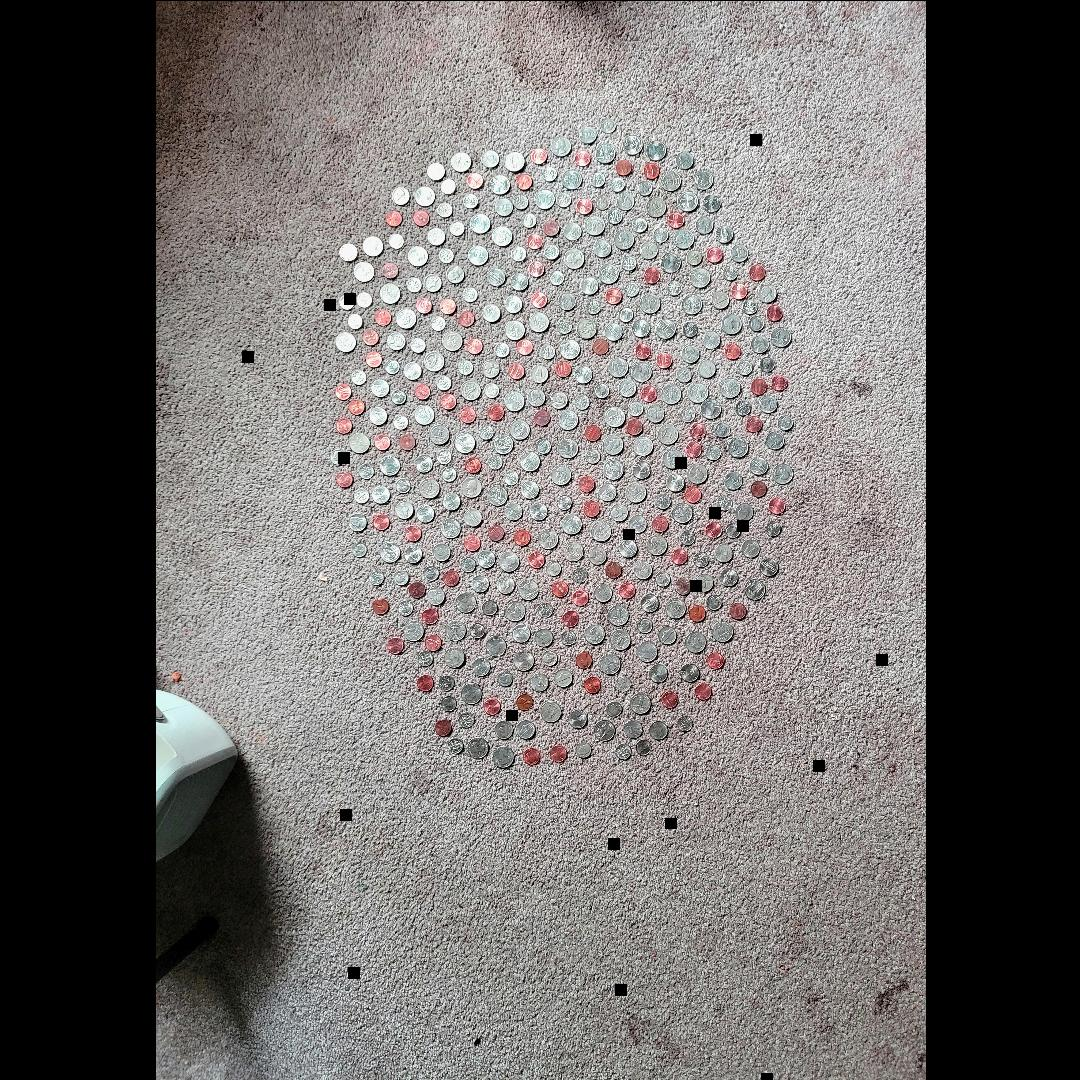Dime: (584, 448, 600, 464), (634, 738, 650, 754), (417, 650, 432, 666), (458, 557, 473, 572), (540, 166, 556, 180), (736, 360, 752, 374), (764, 521, 780, 535), (692, 552, 708, 566), (626, 400, 642, 414), (486, 453, 500, 469), (458, 711, 472, 727), (482, 598, 496, 614), (540, 650, 556, 664), (616, 742, 630, 758), (388, 232, 402, 248), (441, 694, 455, 710), (588, 172, 603, 186), (430, 315, 444, 330), (410, 337, 424, 352), (457, 360, 472, 374), (573, 394, 588, 408), (462, 286, 476, 301), (623, 282, 638, 296), (742, 298, 756, 313), (735, 400, 749, 415), (676, 366, 690, 381), (618, 307, 632, 322), (556, 494, 570, 509), (572, 566, 586, 581), (358, 462, 372, 477), (396, 600, 411, 614), (438, 675, 452, 690), (406, 276, 420, 291), (347, 312, 361, 327), (600, 118, 614, 132), (609, 176, 623, 190), (595, 194, 609, 208), (632, 217, 646, 231), (636, 180, 650, 194), (555, 192, 569, 206), (543, 244, 557, 258), (513, 194, 527, 208), (521, 213, 535, 227), (510, 246, 524, 260), (462, 193, 476, 207), (436, 202, 450, 216), (437, 248, 451, 262), (383, 358, 397, 372), (351, 369, 365, 383), (390, 389, 404, 403), (392, 414, 406, 428), (436, 375, 450, 389), (483, 382, 497, 396), (478, 424, 492, 438), (593, 383, 607, 397), (540, 344, 554, 358), (494, 342, 508, 356), (556, 318, 570, 332), (585, 299, 599, 313), (621, 256, 635, 270), (666, 280, 680, 294), (686, 250, 700, 264), (722, 266, 736, 280), (749, 316, 763, 330), (682, 322, 696, 336), (759, 356, 773, 370), (679, 407, 693, 421), (777, 415, 791, 429), (714, 422, 728, 436), (705, 445, 719, 459), (716, 495, 730, 509), (724, 522, 738, 536), (679, 530, 693, 544), (655, 493, 669, 507), (655, 571, 669, 585), (536, 438, 550, 452), (546, 560, 560, 574), (503, 470, 517, 484), (436, 449, 450, 463), (423, 566, 437, 580), (392, 570, 406, 584), (368, 570, 382, 584), (351, 541, 365, 555), (353, 488, 367, 502), (497, 670, 511, 684), (468, 623, 482, 637), (537, 602, 551, 616), (560, 630, 574, 644), (606, 701, 620, 715), (636, 618, 650, 632), (616, 676, 630, 690), (706, 594, 720, 608), (676, 716, 690, 730), (447, 738, 461, 752), (575, 742, 589, 756), (339, 294, 353, 308), (356, 292, 370, 306), (441, 179, 455, 193), (548, 270, 562, 284), (330, 449, 344, 463), (395, 478, 409, 492), (448, 222, 464, 234), (441, 466, 454, 480), (608, 208, 620, 222), (653, 228, 667, 240)
Nickel: (470, 656, 490, 676), (567, 708, 585, 728), (657, 624, 675, 644), (602, 322, 622, 340), (714, 224, 732, 244), (700, 330, 720, 348), (644, 404, 664, 422), (618, 538, 636, 557), (740, 538, 758, 557), (594, 582, 611, 602), (468, 573, 488, 590), (493, 720, 511, 738), (623, 719, 641, 737), (649, 720, 667, 738), (648, 663, 666, 681), (534, 628, 552, 646), (510, 623, 528, 641), (639, 593, 657, 611), (394, 500, 412, 518), (759, 556, 777, 574), (734, 502, 752, 520), (588, 546, 606, 564), (680, 344, 698, 362), (548, 390, 566, 408), (402, 361, 420, 379), (592, 238, 610, 256), (757, 284, 775, 302), (749, 334, 767, 352), (577, 124, 595, 142), (348, 512, 366, 530), (338, 242, 356, 260), (526, 388, 544, 406), (631, 317, 648, 336), (476, 548, 492, 568), (722, 472, 742, 488), (764, 432, 784, 448), (628, 514, 645, 532), (666, 473, 683, 491), (718, 567, 736, 584), (598, 482, 616, 499), (609, 502, 626, 520), (617, 378, 634, 396), (369, 406, 386, 424), (579, 276, 596, 294), (562, 222, 580, 239), (639, 240, 656, 258), (674, 151, 692, 168), (680, 664, 698, 681), (391, 186, 408, 204), (402, 544, 419, 562), (713, 543, 731, 560), (694, 573, 712, 590), (631, 460, 649, 477), (749, 457, 766, 474), (557, 293, 574, 310), (516, 719, 532, 737), (554, 668, 570, 686), (530, 672, 546, 690), (432, 542, 448, 560), (462, 508, 480, 524), (414, 454, 432, 470), (370, 486, 388, 502), (520, 480, 536, 498), (504, 501, 520, 519), (758, 396, 776, 412), (696, 360, 714, 376), (530, 364, 546, 382), (370, 378, 386, 396), (422, 274, 440, 290), (445, 266, 463, 282), (729, 244, 747, 260), (694, 216, 712, 232), (710, 291, 728, 307), (615, 192, 633, 208), (480, 150, 498, 166), (426, 586, 442, 604), (572, 366, 590, 382), (510, 272, 526, 290), (426, 228, 444, 244), (386, 332, 404, 348), (480, 360, 498, 376), (442, 491, 458, 509), (416, 504, 432, 522), (634, 560, 650, 578), (486, 268, 503, 284), (702, 194, 719, 210), (496, 576, 512, 592), (530, 502, 546, 518), (505, 296, 521, 312), (494, 198, 510, 214), (426, 162, 442, 178), (482, 304, 498, 320)
Penny: (666, 211, 684, 229), (384, 209, 400, 227), (706, 652, 722, 669), (592, 336, 608, 353), (522, 748, 538, 764), (583, 677, 599, 693), (618, 582, 634, 598), (604, 561, 620, 577), (670, 548, 686, 564), (582, 500, 598, 516), (684, 486, 700, 502), (750, 480, 766, 496), (626, 419, 642, 435), (640, 385, 656, 401), (335, 383, 351, 399), (365, 351, 381, 367), (374, 309, 390, 325), (439, 297, 455, 313), (515, 337, 531, 353), (527, 260, 543, 276), (526, 232, 542, 248), (605, 287, 621, 303), (731, 283, 747, 299), (705, 246, 721, 262), (576, 197, 592, 213), (541, 218, 557, 234), (574, 150, 590, 166), (530, 148, 546, 164), (465, 172, 481, 188), (412, 208, 428, 224), (694, 682, 711, 697), (465, 457, 480, 474), (425, 634, 440, 650), (561, 610, 577, 625), (443, 569, 458, 585), (373, 514, 388, 530), (404, 525, 419, 541), (769, 497, 784, 513), (689, 422, 705, 437), (770, 374, 786, 389), (579, 476, 594, 492), (399, 434, 414, 450), (374, 433, 389, 449), (361, 329, 377, 344), (457, 311, 473, 326), (634, 342, 650, 357), (723, 342, 739, 357), (766, 304, 782, 319), (616, 158, 630, 175), (417, 675, 432, 690), (675, 579, 690, 594), (386, 638, 402, 652), (550, 745, 564, 761), (484, 698, 498, 714), (515, 694, 531, 708), (662, 691, 676, 707), (576, 651, 590, 667), (552, 580, 566, 596), (407, 582, 423, 596), (488, 524, 502, 540), (652, 515, 666, 531), (684, 442, 700, 456), (585, 424, 599, 440), (750, 378, 766, 392), (336, 470, 350, 486), (336, 417, 350, 433), (348, 399, 362, 415), (458, 408, 474, 422), (488, 403, 502, 419), (555, 361, 569, 377), (530, 292, 546, 306), (644, 266, 658, 282), (644, 162, 658, 178), (435, 720, 450, 734), (730, 602, 744, 617), (464, 535, 478, 550), (416, 297, 430, 312), (466, 338, 480, 353), (656, 352, 670, 367), (750, 264, 764, 279), (372, 598, 386, 612), (422, 608, 436, 622), (690, 606, 704, 620), (572, 590, 586, 604), (514, 530, 528, 544), (528, 552, 542, 566), (706, 522, 720, 536), (746, 416, 760, 430), (414, 384, 428, 398), (441, 394, 455, 408), (534, 410, 548, 424), (509, 364, 523, 378), (382, 262, 396, 276), (516, 174, 530, 188)
Quarter: (459, 683, 480, 704), (459, 476, 480, 497), (352, 262, 374, 282), (466, 736, 486, 758), (628, 693, 650, 713), (608, 628, 628, 650), (496, 551, 518, 571), (656, 423, 678, 443), (394, 308, 416, 328), (593, 719, 613, 740), (635, 640, 655, 661), (484, 635, 505, 655), (684, 631, 704, 652), (454, 592, 475, 612), (348, 432, 368, 453), (602, 406, 623, 426), (625, 481, 645, 502), (770, 463, 791, 483), (689, 267, 710, 287), (596, 264, 617, 284), (726, 437, 746, 457), (519, 450, 539, 470), (335, 331, 355, 351), (492, 746, 512, 766), (540, 701, 560, 721), (599, 653, 619, 673), (513, 649, 533, 669), (711, 620, 731, 640), (664, 597, 684, 617), (583, 623, 603, 643), (517, 579, 537, 599), (504, 600, 524, 620), (444, 620, 464, 640), (402, 620, 422, 640), (744, 578, 764, 598), (379, 455, 399, 475), (418, 478, 438, 498), (378, 542, 398, 562), (487, 485, 507, 505), (428, 424, 448, 444), (453, 432, 473, 452), (492, 433, 512, 453), (508, 418, 528, 438), (503, 390, 523, 410), (459, 380, 479, 400), (557, 409, 577, 429), (556, 437, 576, 457), (549, 464, 569, 484), (590, 520, 610, 540), (632, 436, 652, 456), (646, 534, 666, 554), (671, 503, 691, 523), (687, 462, 707, 482), (687, 382, 707, 402), (700, 398, 720, 418), (559, 338, 579, 358), (770, 326, 790, 346), (660, 252, 680, 272), (676, 190, 696, 210), (692, 169, 712, 189), (659, 170, 679, 190), (528, 312, 548, 332), (503, 320, 523, 340), (584, 215, 604, 235), (450, 151, 470, 171), (414, 185, 434, 205), (406, 245, 426, 265), (560, 169, 580, 189), (594, 142, 614, 162), (644, 139, 664, 159), (469, 213, 489, 233), (538, 528, 557, 548), (602, 459, 622, 478), (662, 384, 681, 404), (662, 448, 681, 468), (721, 313, 741, 332), (640, 292, 659, 312), (654, 317, 674, 336), (644, 198, 664, 217), (550, 136, 570, 155), (621, 136, 641, 155), (444, 646, 462, 667), (607, 606, 627, 624), (440, 517, 458, 537), (414, 403, 432, 423), (560, 514, 580, 532), (564, 541, 582, 561), (604, 434, 622, 454), (719, 378, 739, 396), (632, 361, 650, 381), (606, 358, 626, 376), (424, 351, 442, 371), (682, 294, 700, 314), (674, 228, 692, 248), (614, 229, 632, 249), (564, 248, 582, 268), (492, 226, 510, 246), (534, 188, 552, 208), (506, 151, 524, 171), (362, 235, 380, 255), (490, 174, 508, 194), (576, 317, 594, 336), (379, 284, 398, 302), (441, 332, 460, 350), (468, 246, 486, 264)
